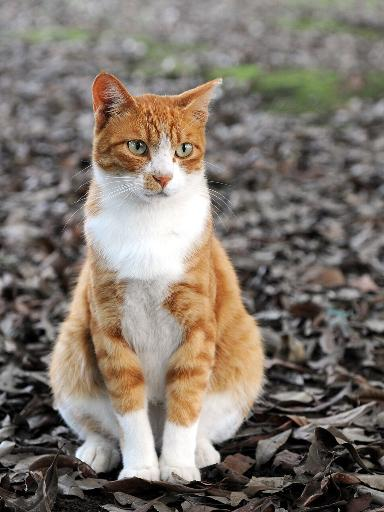cat_sitting: (50, 72, 264, 481)
